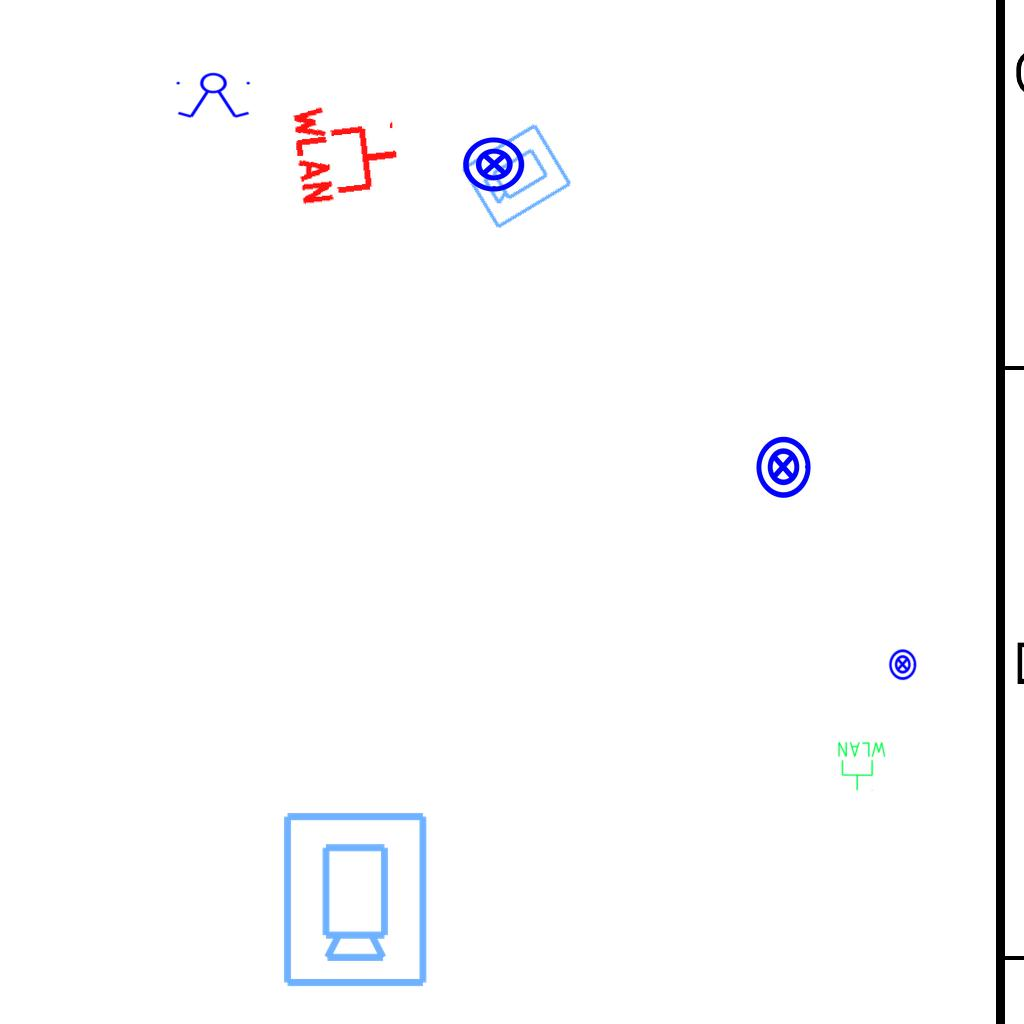KFO_Kamera_mit_Festobjektiv: (277, 808, 431, 990), (457, 119, 576, 232)
Serienschalter: (172, 72, 256, 120)
Taster_beleuchtet: (750, 434, 816, 500), (461, 131, 527, 197), (886, 648, 919, 681)
WLAN: (289, 92, 406, 210), (836, 740, 888, 792)
